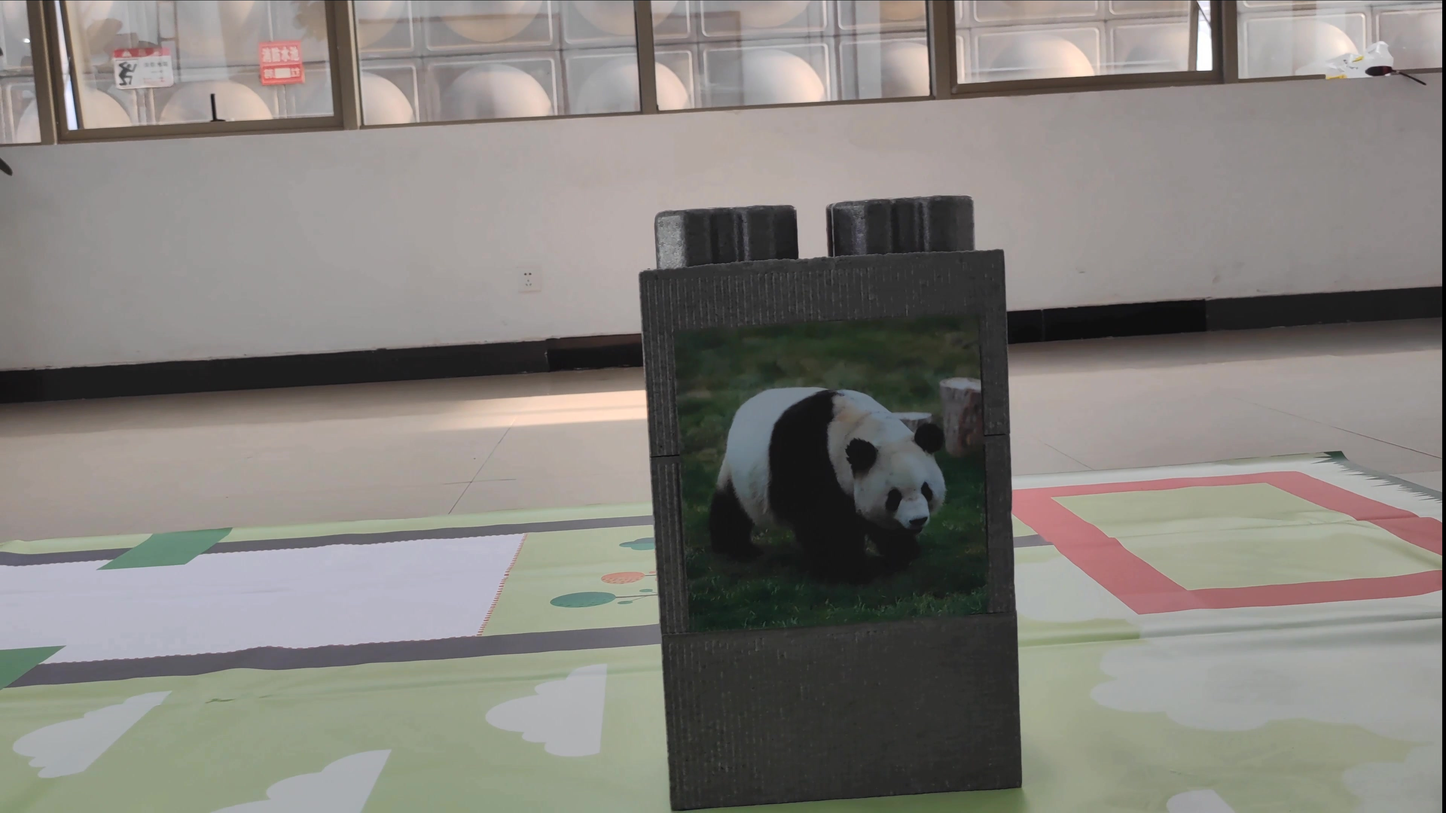panda: (697, 371, 968, 588)
